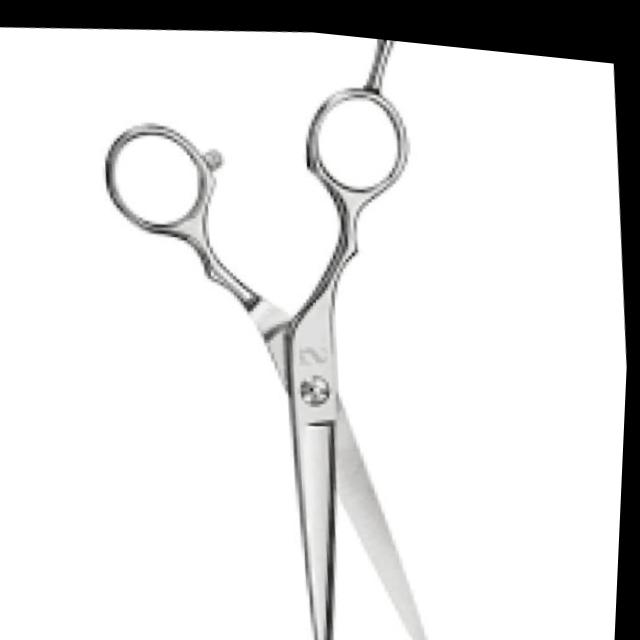scissor: (73, 8, 460, 640)
